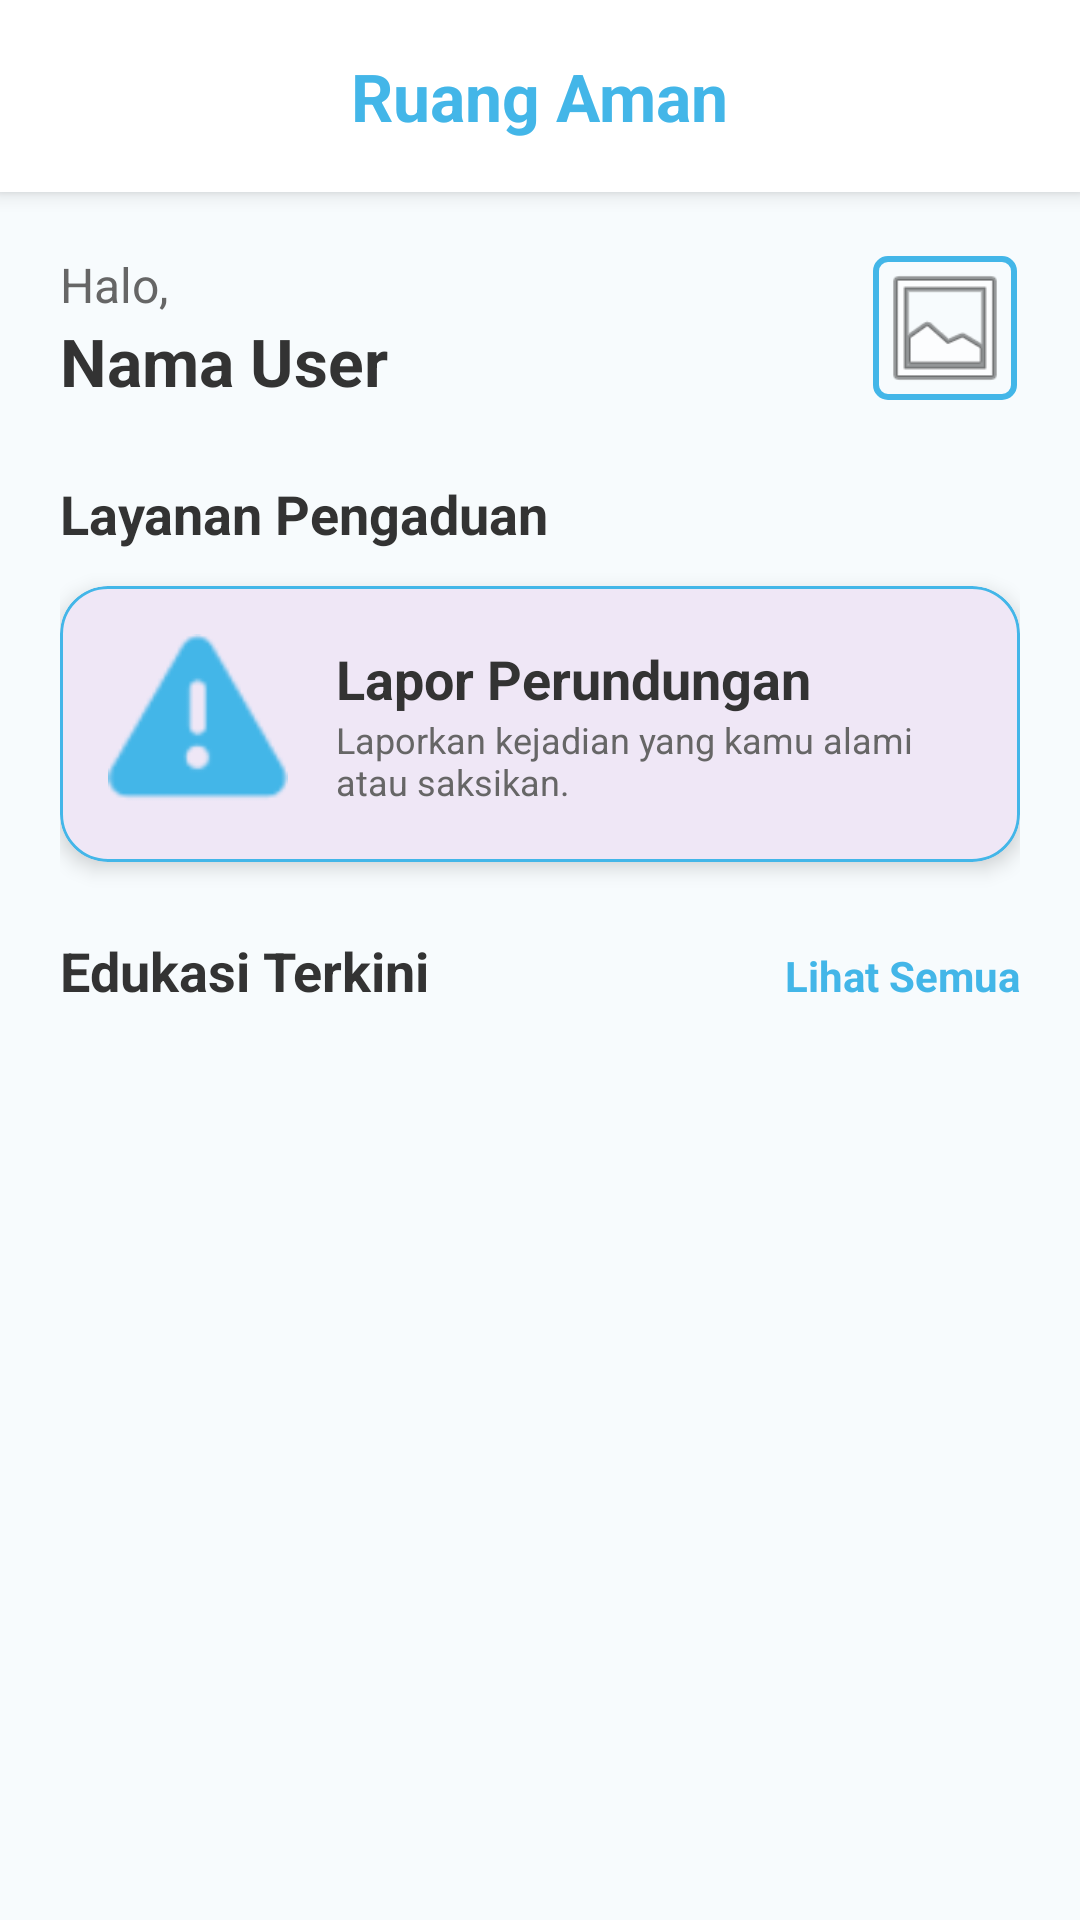

Screen size 1080px×1920px. Icon name, then its box in pixels as BBox(x1, y1, x2, y2):
alert: BBox(108, 634, 288, 798)
gallery: BBox(873, 256, 1017, 400)
